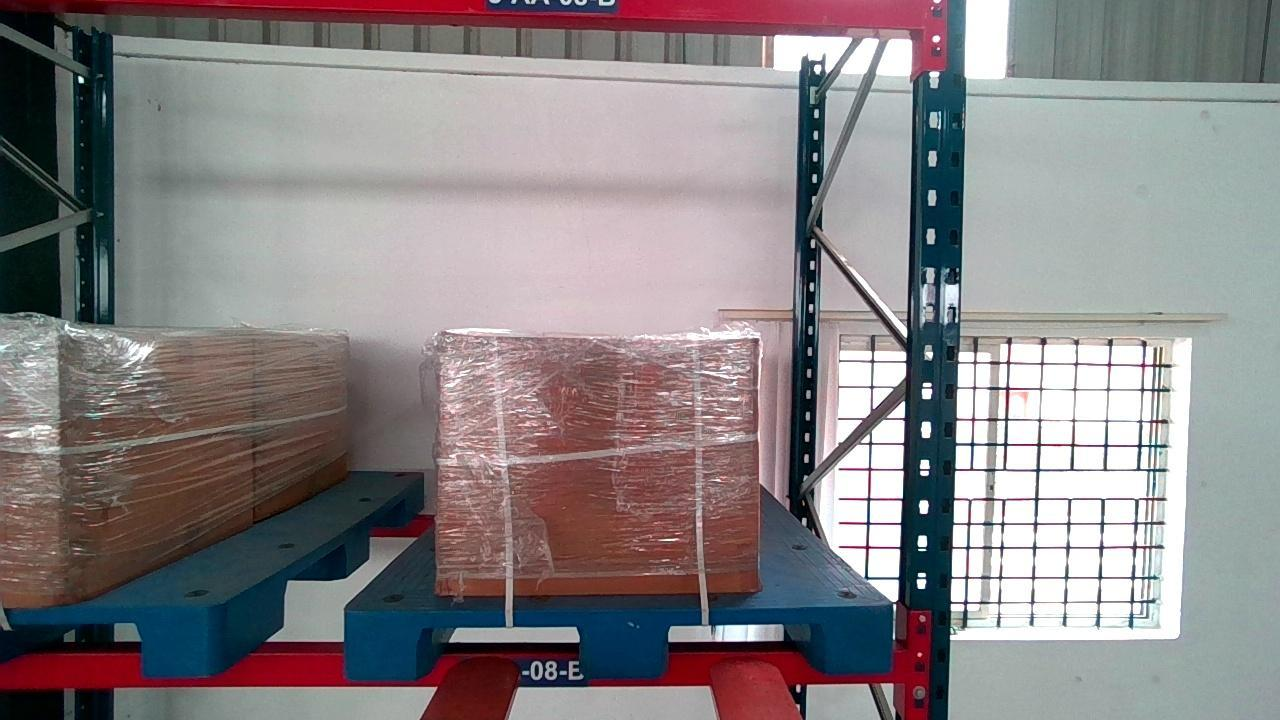h_rack: (0, 646, 907, 688)
small_pallet: (346, 607, 890, 675), (0, 605, 213, 677)
